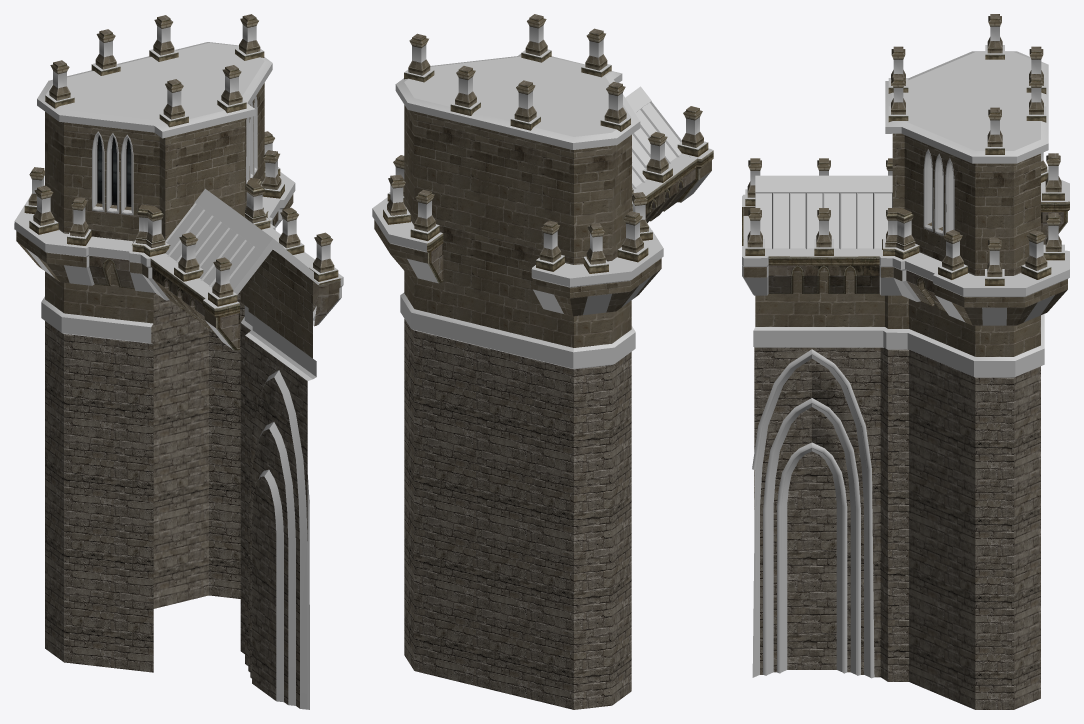
The model's file is SM_TowerGateHouse_02.FBX.
3 renders of one model, left to right at view 1: azimuth 30°, elevation 25°; view 2: azimuth 150°, elevation 25°; view 3: azimuth 270°, elevation 25°, orthographic. The views are drawn at different scales.
Visible parts, largest first — view 1: SM_TowerGateHouse_02; view 2: SM_TowerGateHouse_02; view 3: SM_TowerGateHouse_02.
Boxes of the visible parts, <box> form: SM_TowerGateHouse_02: <box>14,14,343,709</box>; SM_TowerGateHouse_02: <box>372,14,713,709</box>; SM_TowerGateHouse_02: <box>742,14,1069,709</box>.
Size of what is drawn, in the model's own units: 1631 by 1831 by 3683.
